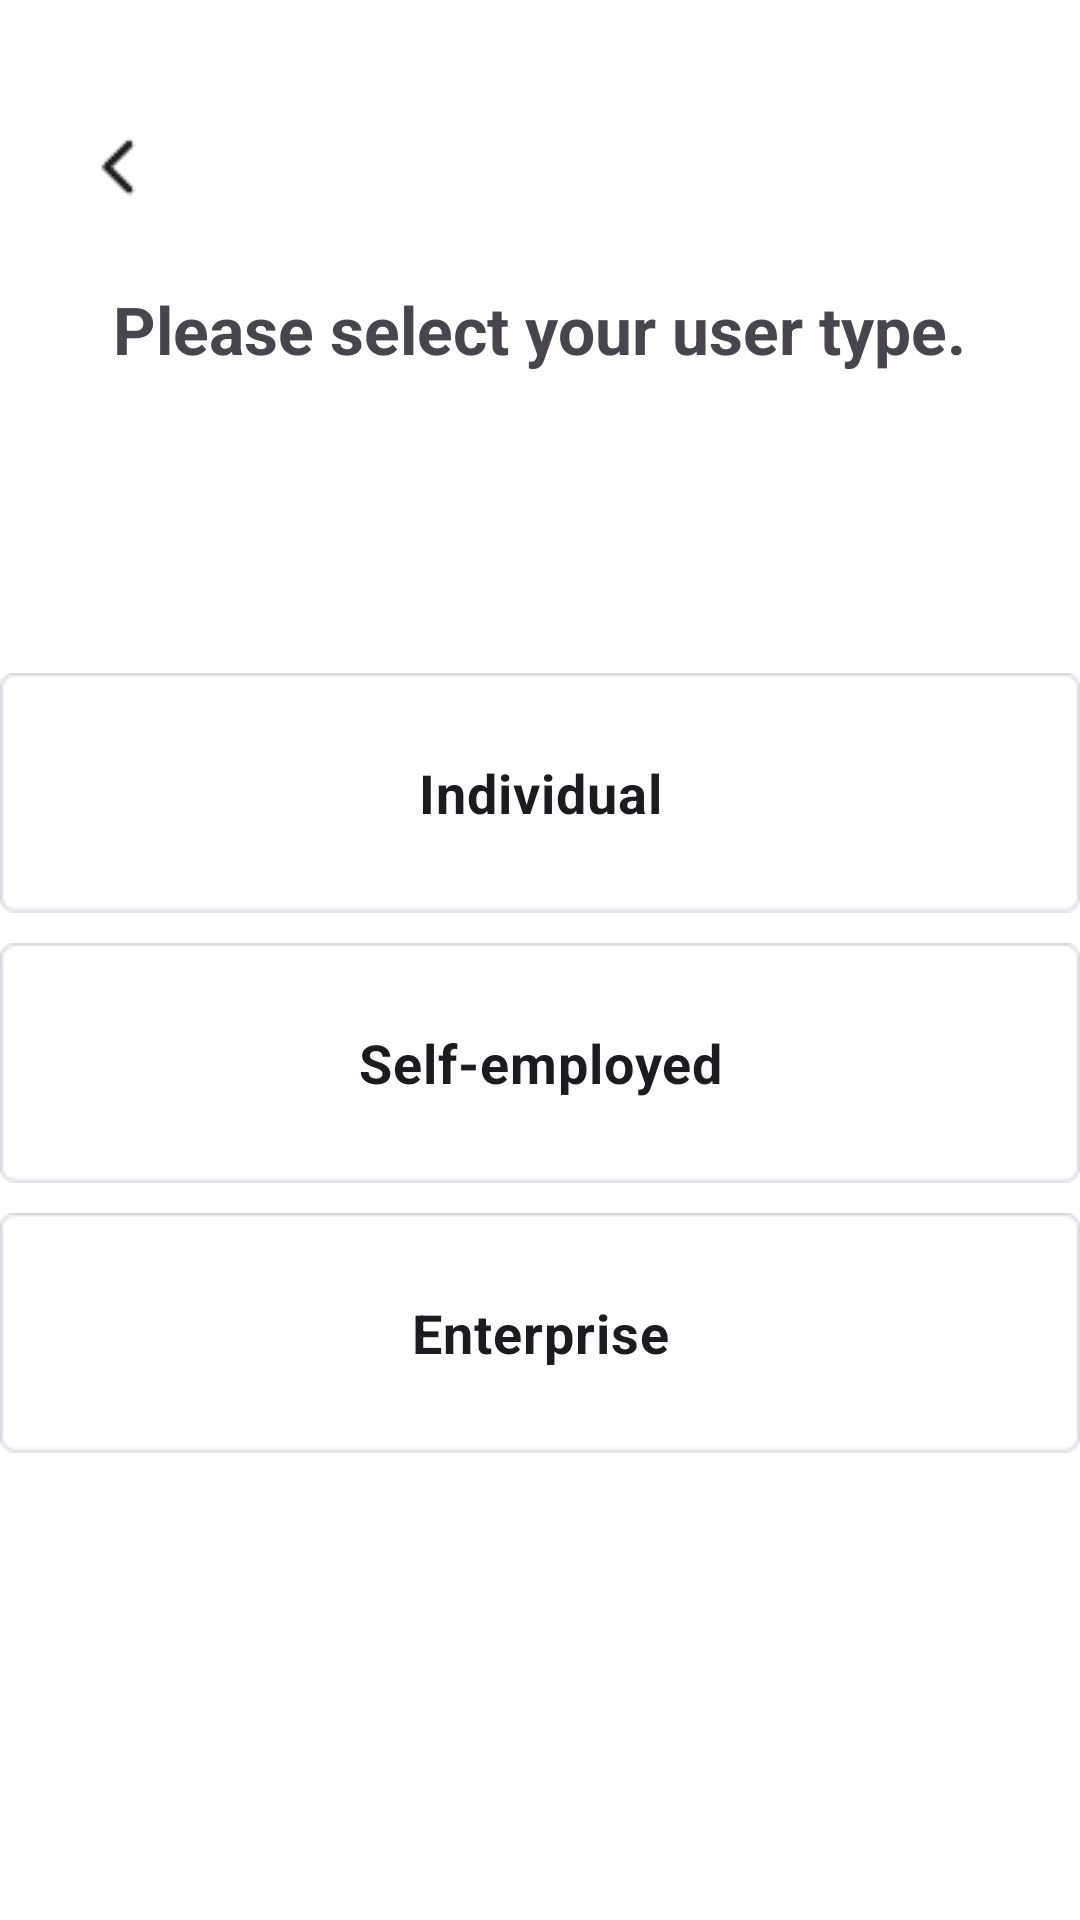

Locate icon controls on the screen. Image size 1080px x 1920px, boxes as detection(x1, y1, x2, y2).
back: detection(101, 140, 135, 195)
